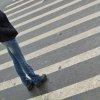crosswalks: (1, 0, 94, 94)
